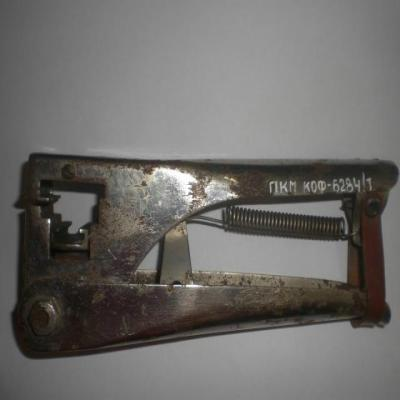technique: (9, 153, 400, 360)
